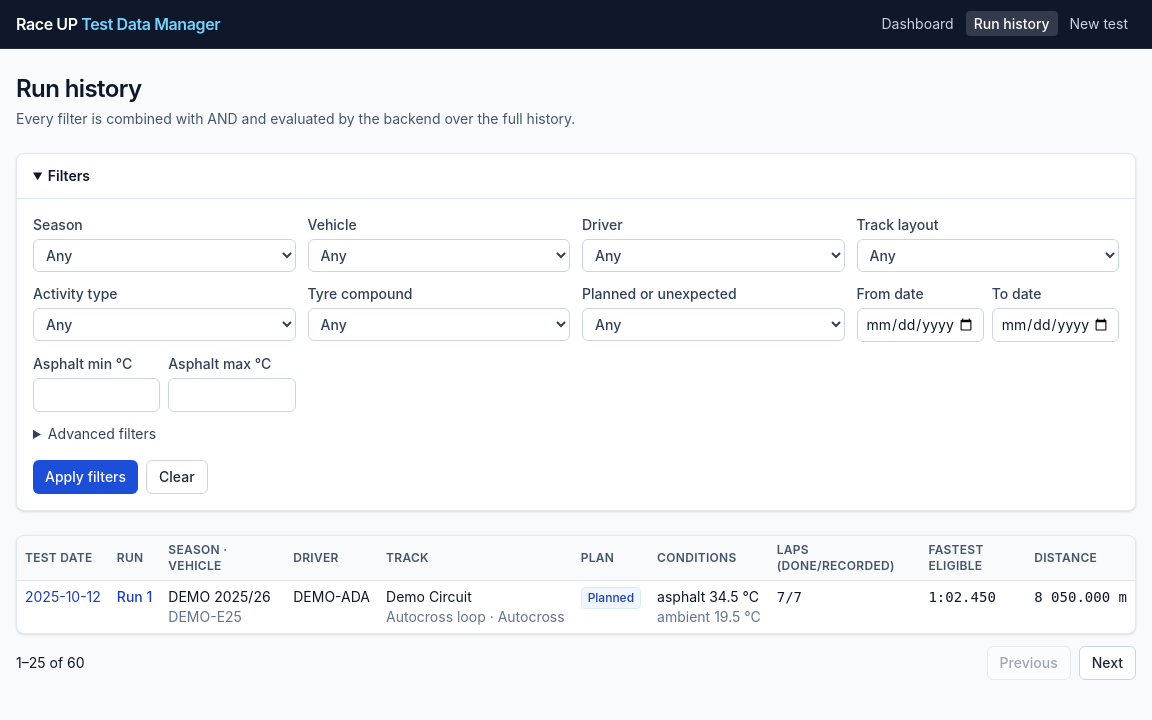
historical run browser › sends all active filters in one request and resets to the first page
Expected: the link "Run 1" is shown, [117, 588, 152, 605]
Select "DEMO 2025/26" in the dropdown labelled "Season": (164, 256) [33, 239, 296, 272]
Select "DEMO-ADA · Ada Demo" in the dropdown labelled "Driver": (713, 256) [582, 239, 844, 272]
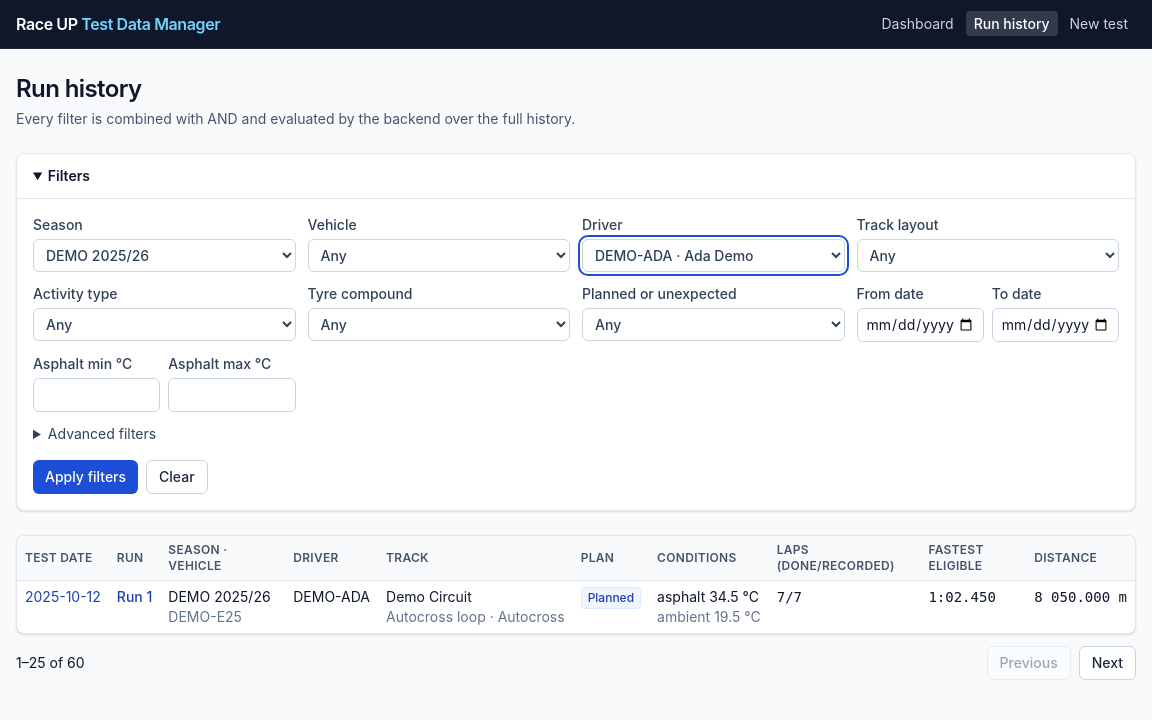
Select "DemoTyre SOFT-D" in the dropdown labelled "Tyre compound": (439, 324) [308, 308, 570, 341]
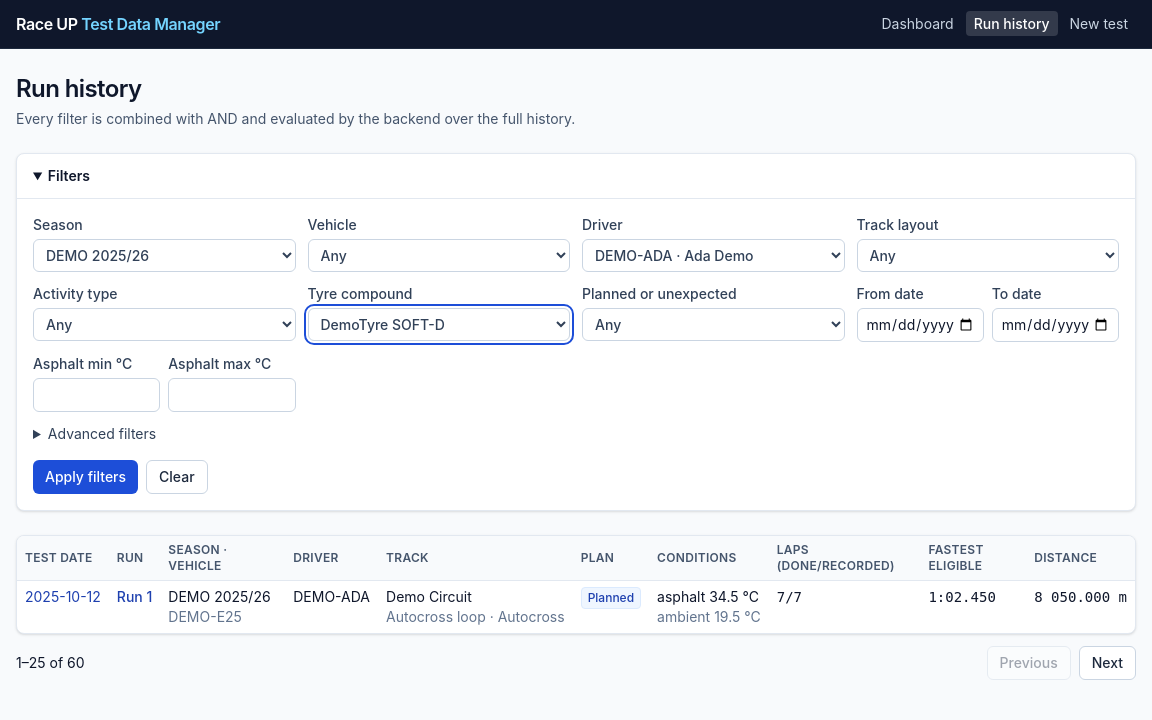
In the field labelled "Asphalt min °C": (97, 395) [33, 378, 160, 412], type "30"
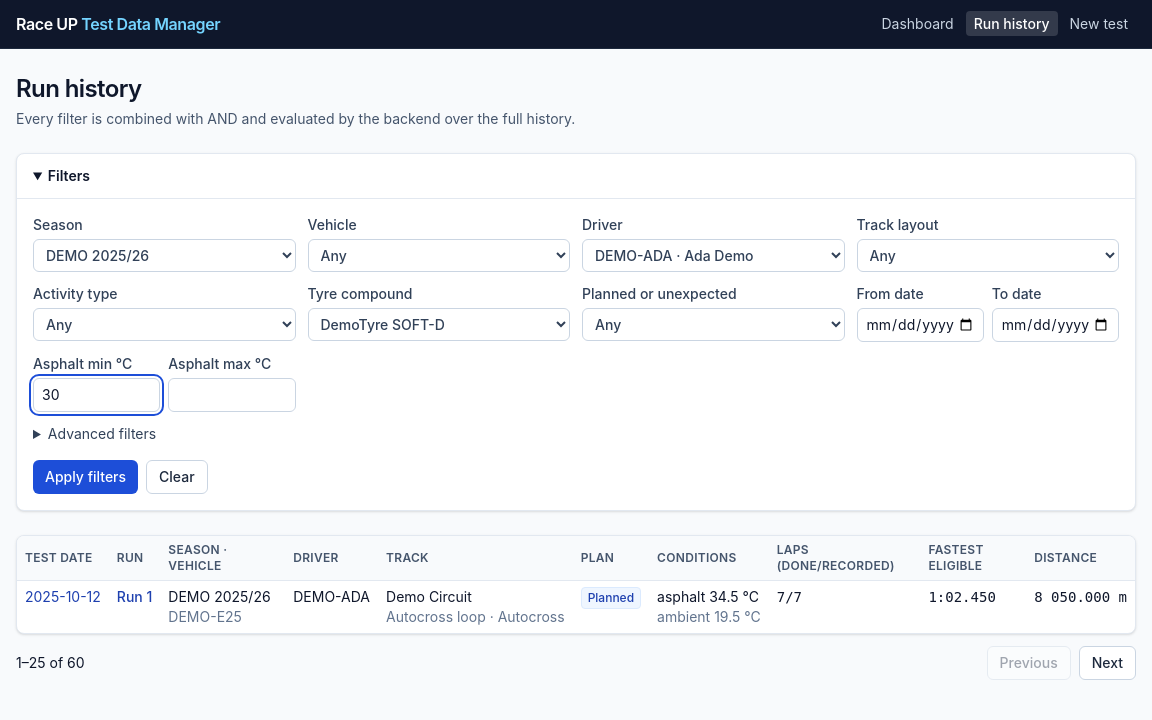
In the field labelled "Asphalt max °C": (232, 395) [168, 378, 296, 412], type "40"
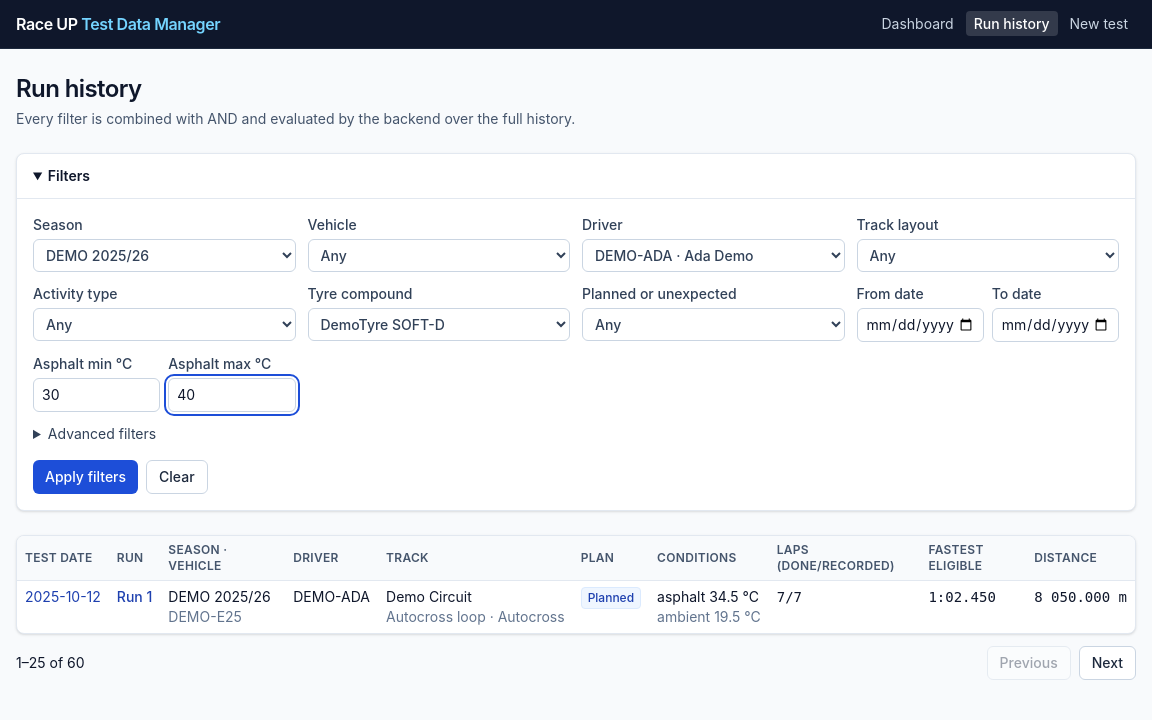
Select "Unexpected runs only" in the dropdown labelled "Planned or unexpected": (713, 324) [582, 308, 844, 341]
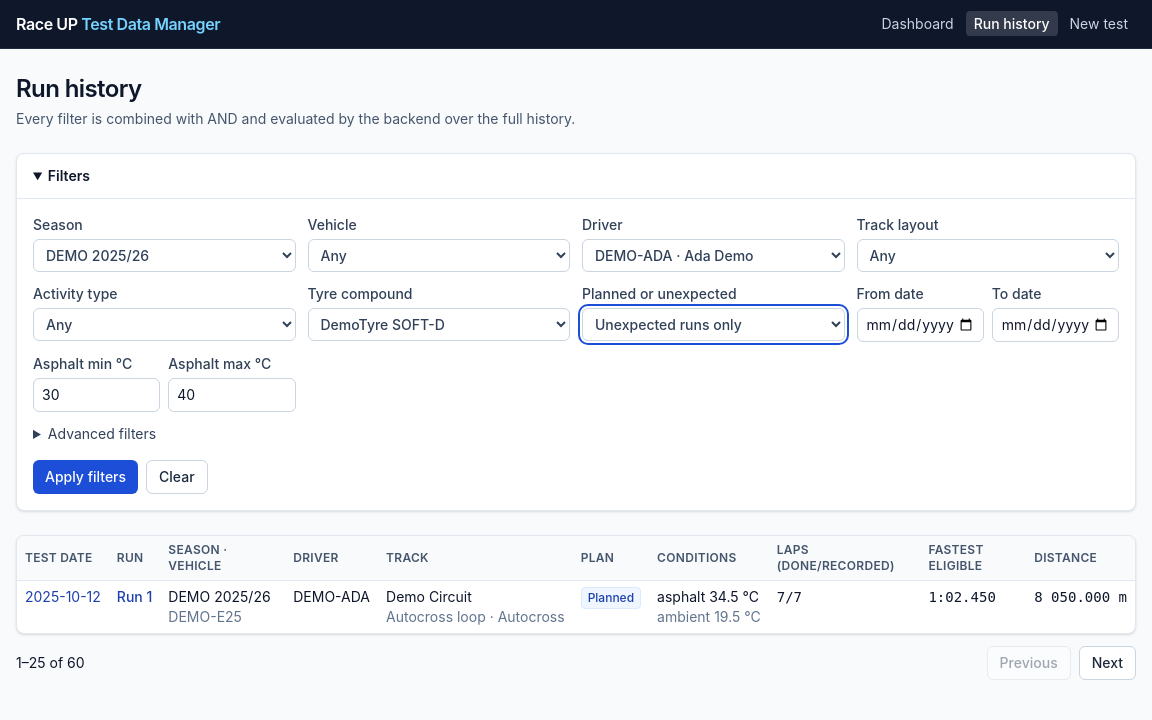
Click the button "Apply filters": click(86, 477) [33, 460, 138, 494]
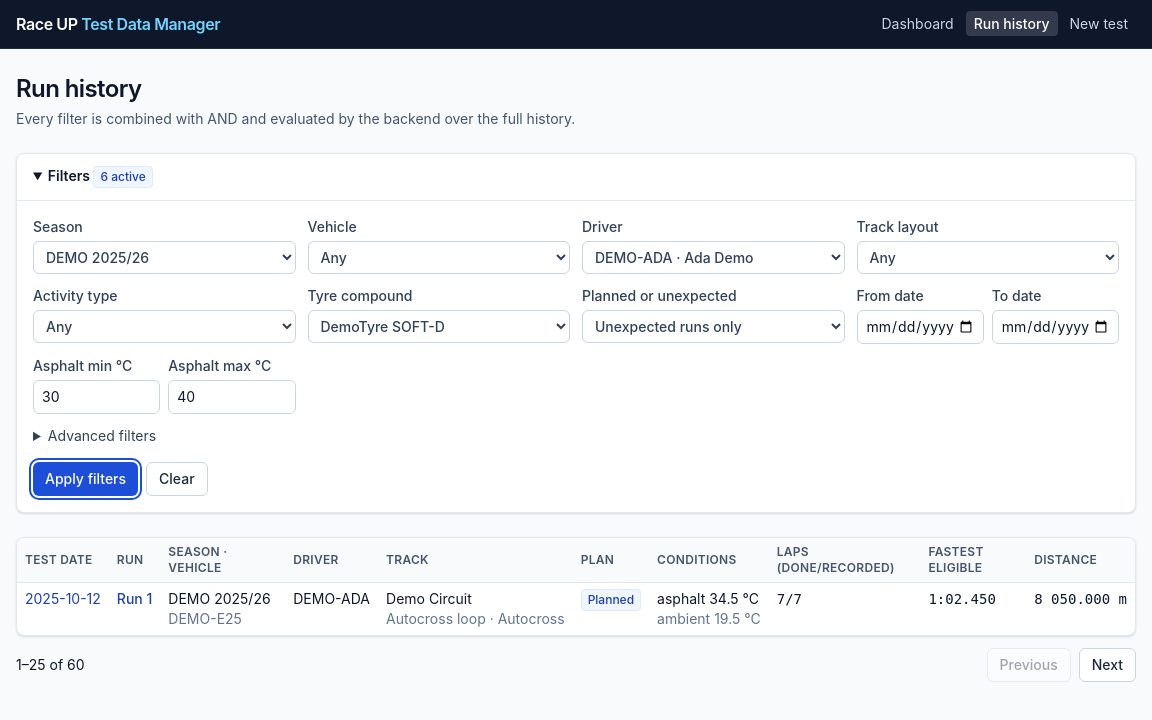
Expected: the text "6 active" is shown, [94, 166, 153, 188]
